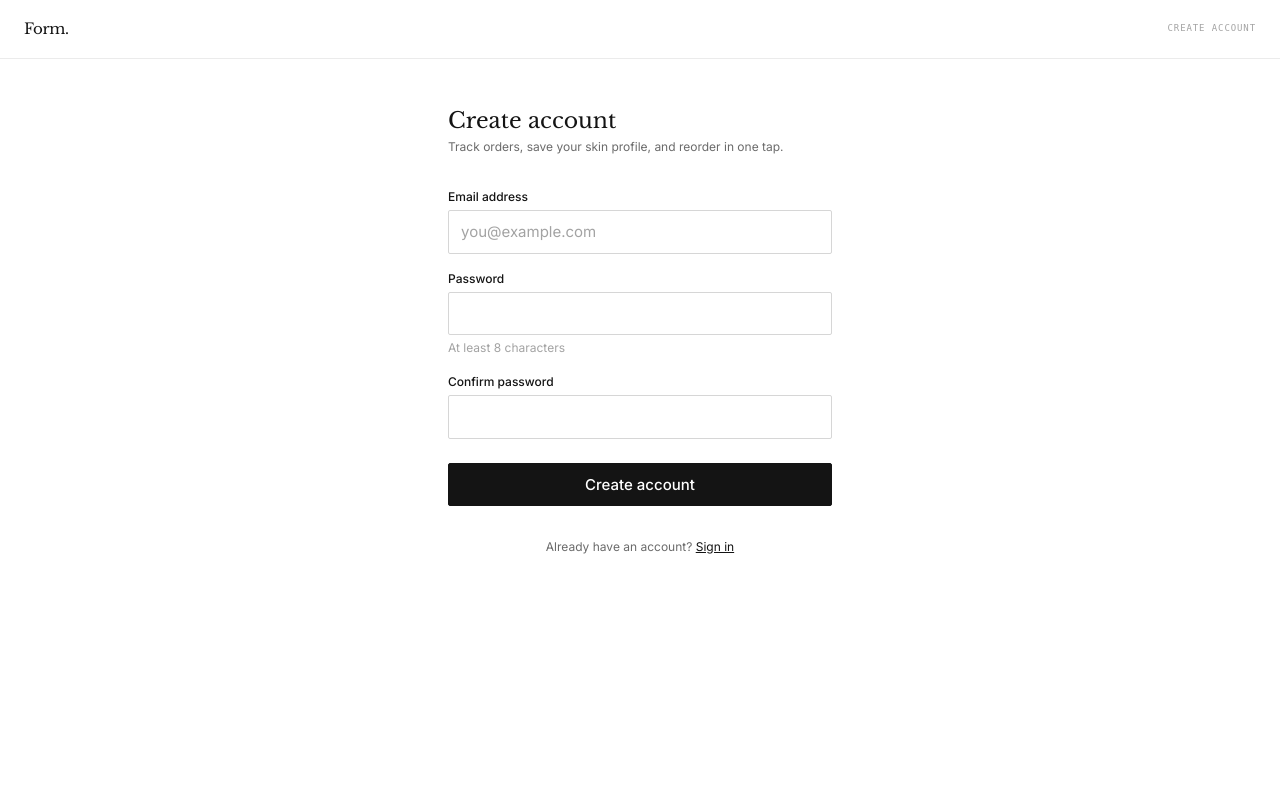
Test case: SignupPage › rejects a password shorter than 8 chars
In the field with test id "input-email": point(640, 232) [448,210,832,254], type "buyer@example.com"
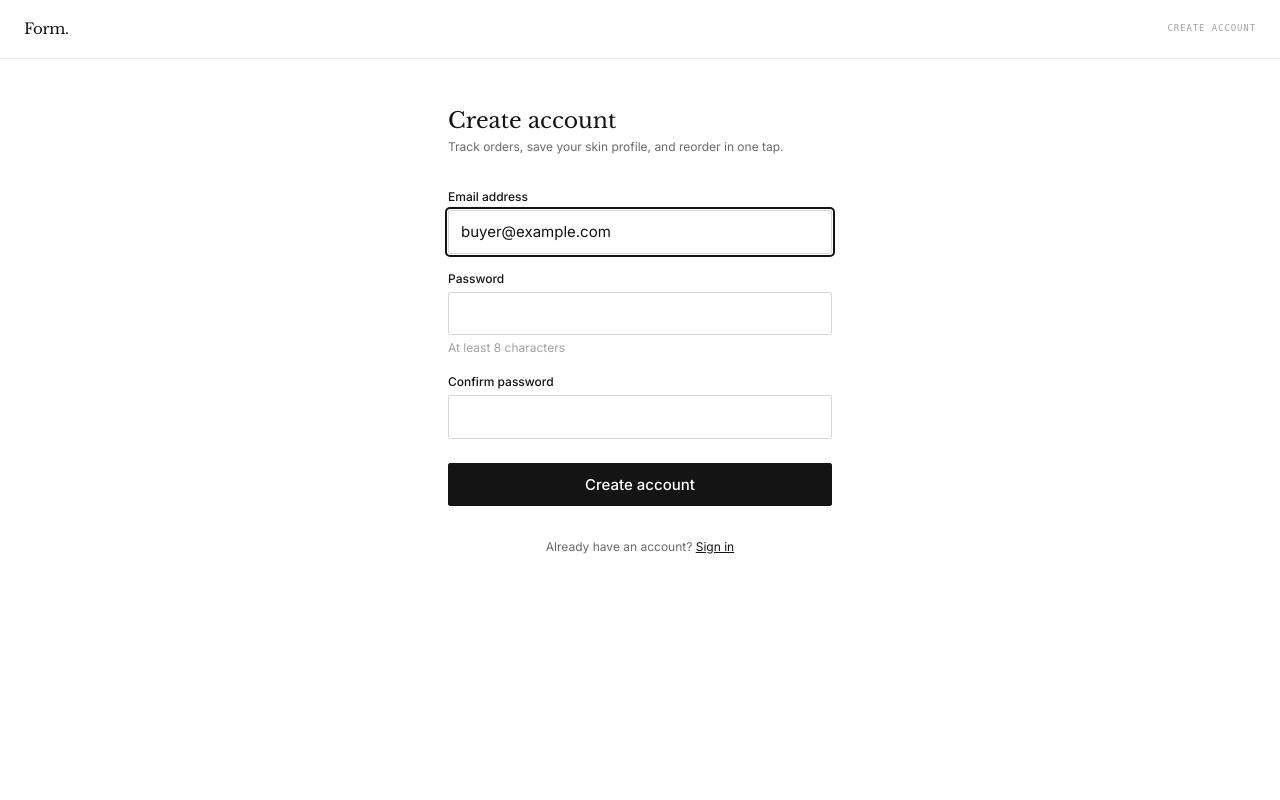
In the password field with test id "input-password": point(640, 313) [448,292,832,335], type "short"
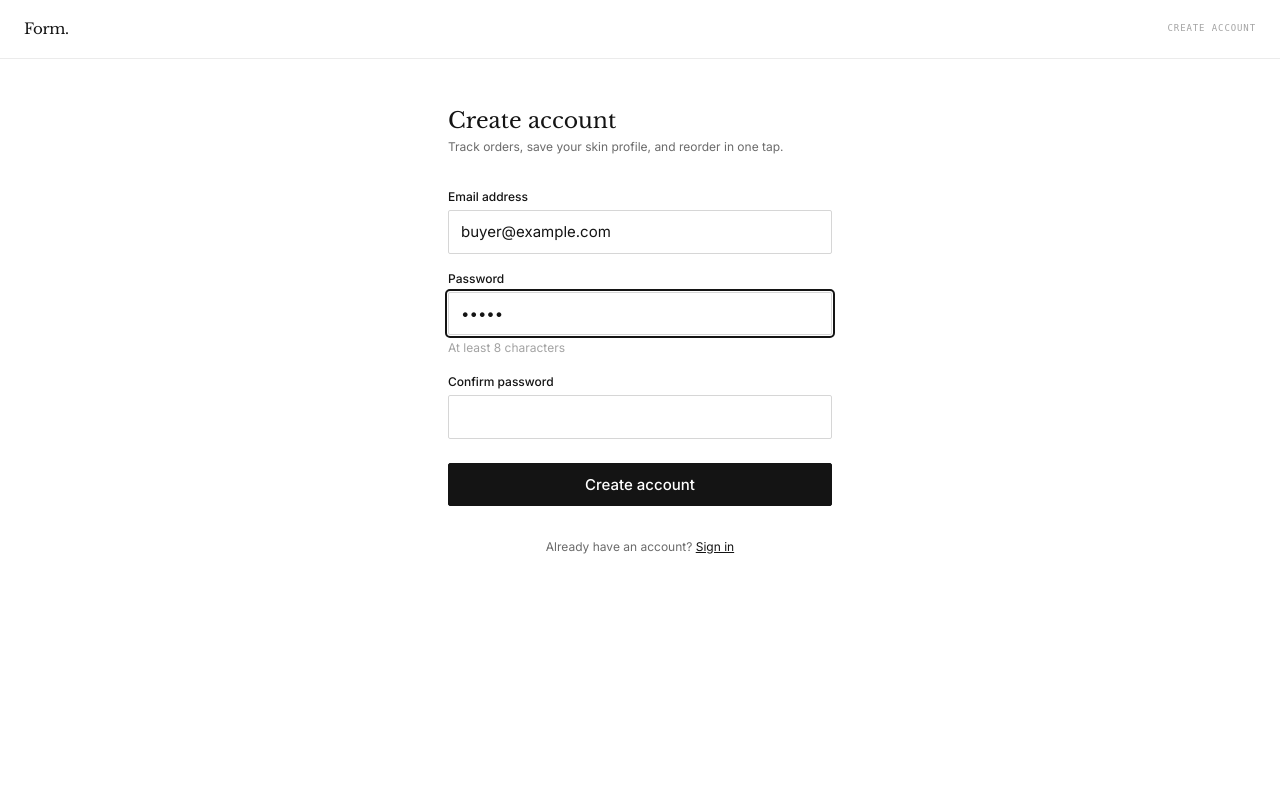
In the password field with test id "input-confirm-password": point(640, 417) [448,395,832,438], type "short"
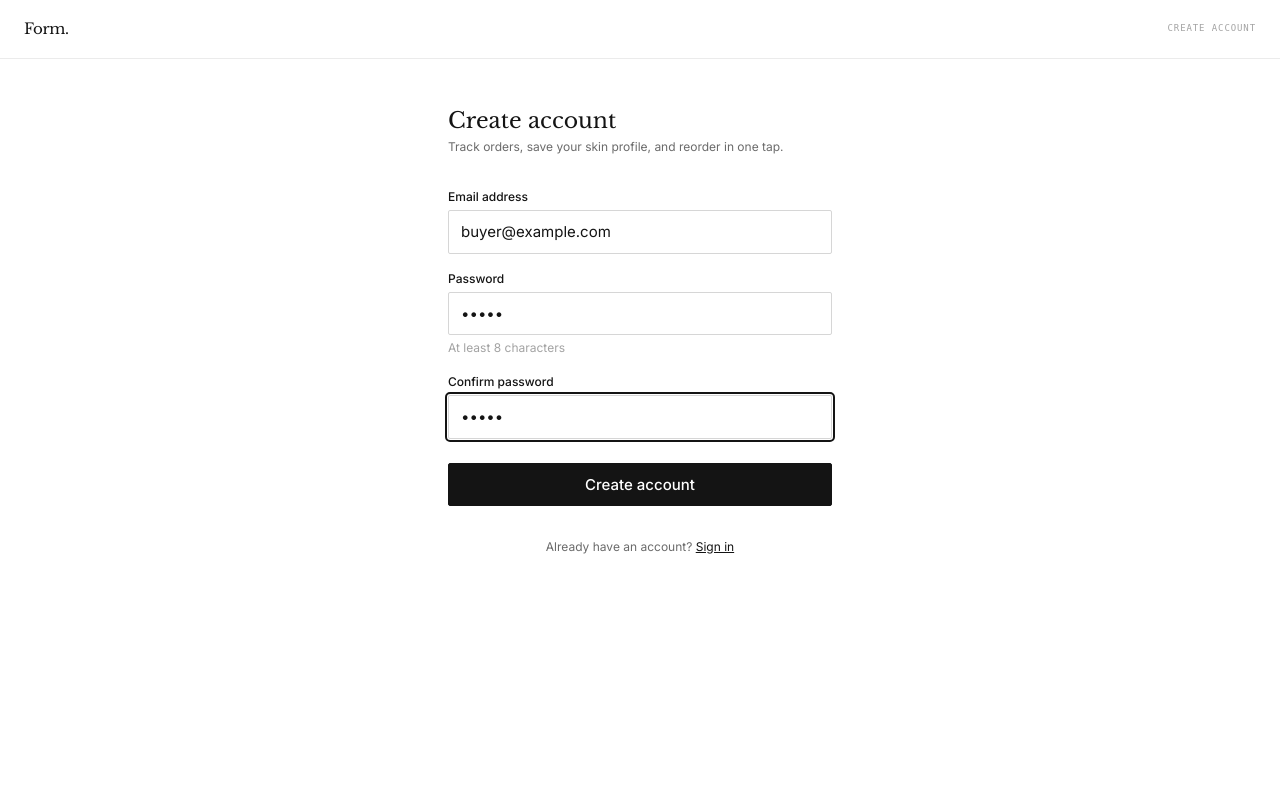
Click the button with test id "signup-submit": point(640, 484) [448,462,832,506]
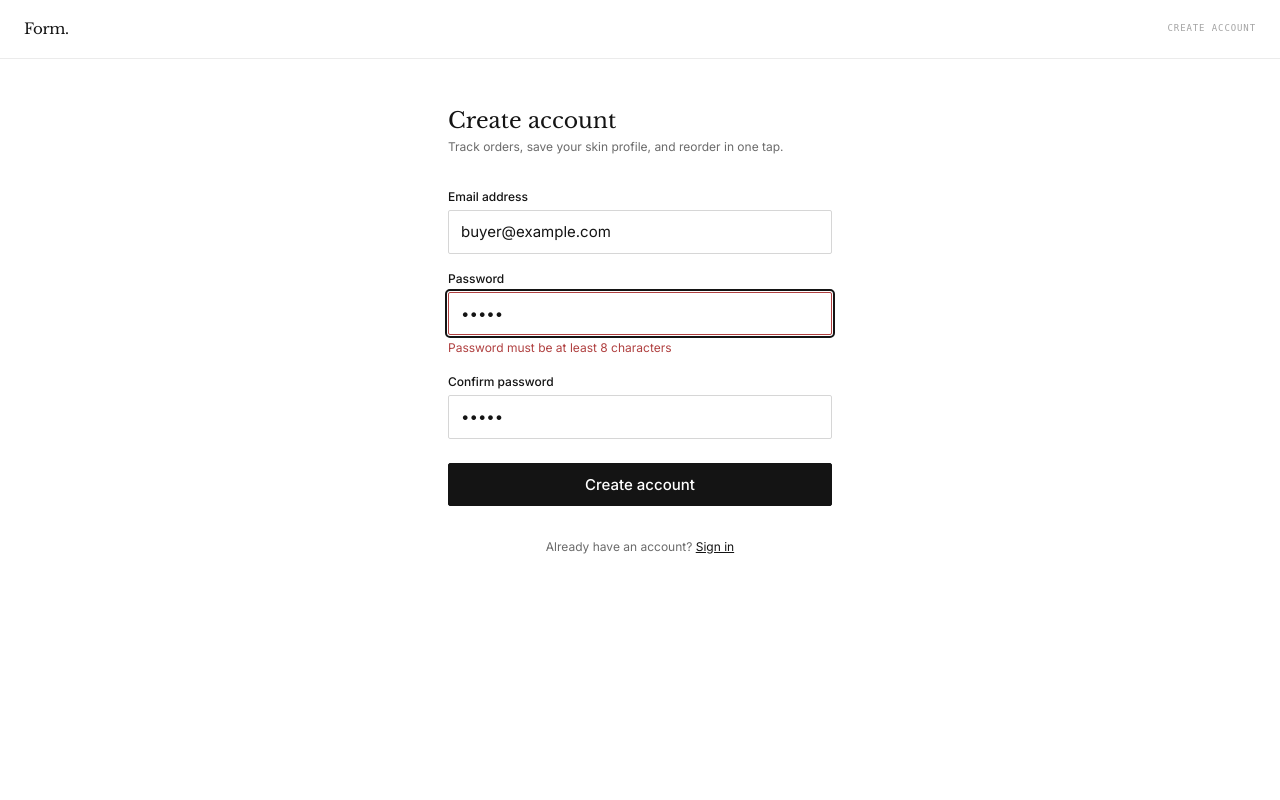
Expected: the text "Password must be at least 8 characters" is shown, [448,340,672,355]
